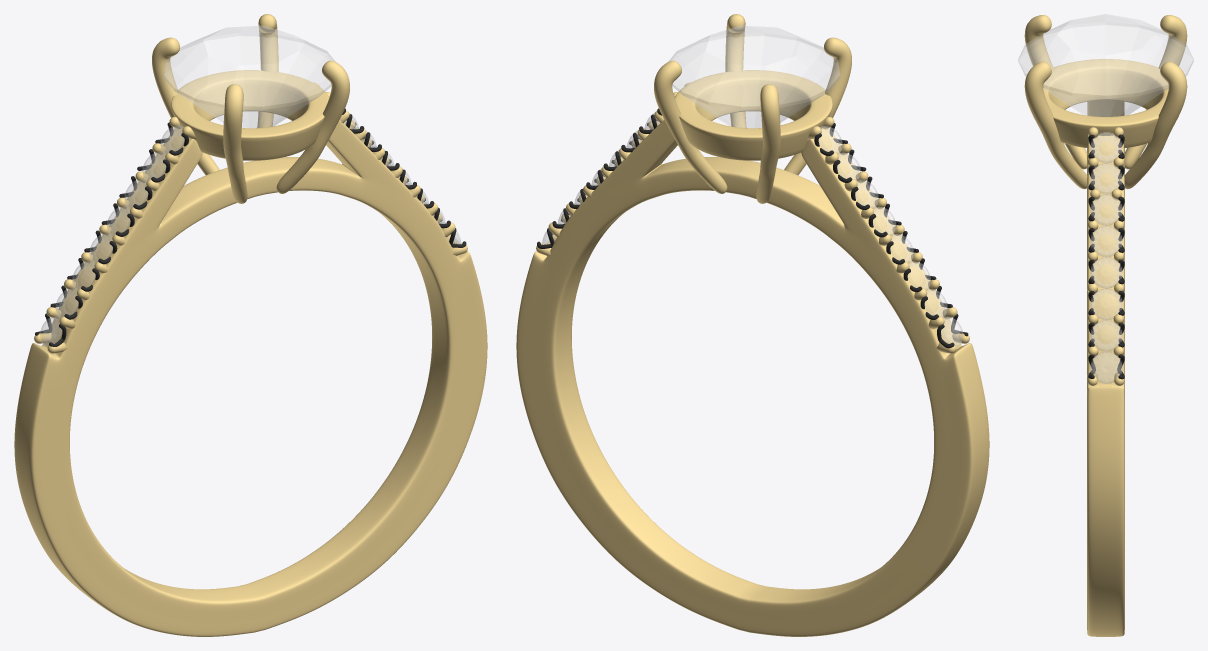
File: jewelry.glb
3 views of the same model, side by side, from view 1: azimuth 30°, elevation 25°; view 2: azimuth 150°, elevation 25°; view 3: azimuth 270°, elevation 25° (orthographic).
Visible parts, largest first — view 1: AMES_PART_M00, AMES_PART_C00; view 2: AMES_PART_M00, AMES_PART_C00; view 3: AMES_PART_M00, AMES_PART_C00, AMES_PART_A09, AMES_PART_A11, AMES_PART_A08, AMES_PART_A12, AMES_PART_A10, AMES_PART_A13, AMES_PART_A14, AMES_PART_A15.
Part boxes in pixels (x1,y1,x2,y2): AMES_PART_M00: (14,14,487,636); AMES_PART_C00: (164,25,335,127); AMES_PART_M00: (516,14,989,636); AMES_PART_C00: (668,25,839,127); AMES_PART_M00: (1024,15,1187,636); AMES_PART_C00: (1018,14,1193,116); AMES_PART_A09: (1090,320,1122,351); AMES_PART_A11: (1090,257,1122,288); AMES_PART_A08: (1090,352,1122,383); AMES_PART_A12: (1090,226,1122,256); AMES_PART_A10: (1090,289,1122,319); AMES_PART_A13: (1090,194,1122,225); AMES_PART_A14: (1090,163,1122,193); AMES_PART_A15: (1090,132,1122,162).
Bounding box in the file's own units: 1.38 × 1.67 × 0.4605.
